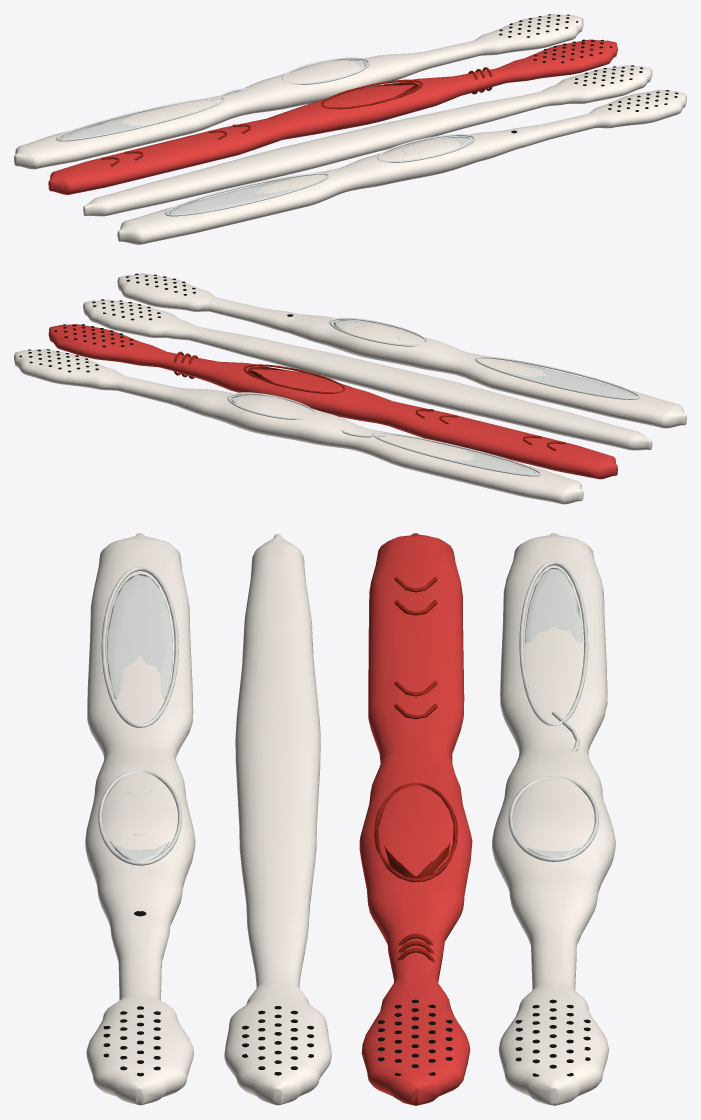
Rendered from product-20-toothbrush-collection.glb.
The picture shows the model from 3 angles, top to bottom: view 1: azimuth 30°, elevation 25°; view 2: azimuth 150°, elevation 25°; view 3: azimuth 270°, elevation 25°; orthographic projection. The views are drawn at different scales.
Parts seen in each view (by area): view 1: Variant 1 white sculpted toothbrush, Variant 2 chevron 1, Variant 1 flowing mould line, Variant 1 joined tuft-hole wells; view 2: Variant 1 white sculpted toothbrush, Variant 2 chevron 1, Variant 1 flowing mould line, Variant 1 joined tuft-hole wells; view 3: Variant 1 white sculpted toothbrush, Variant 2 chevron 1, Variant 1 flowing mould line, Variant 1 joined tuft-hole wells.
Boxes of the visible parts, x1,y1,x2,y2 form: Variant 1 white sculpted toothbrush: (14, 14, 686, 244); Variant 2 chevron 1: (48, 39, 617, 194); Variant 1 flowing mould line: (56, 57, 474, 216); Variant 1 joined tuft-hole wells: (499, 14, 678, 133); Variant 1 white sculpted toothbrush: (14, 273, 686, 504); Variant 2 chevron 1: (48, 324, 617, 479); Variant 1 flowing mould line: (53, 296, 639, 498); Variant 1 joined tuft-hole wells: (19, 273, 293, 372); Variant 1 white sculpted toothbrush: (85, 533, 615, 1105); Variant 2 chevron 1: (359, 533, 472, 1105); Variant 1 flowing mould line: (98, 561, 615, 1072); Variant 1 joined tuft-hole wells: (103, 911, 590, 1076).
Size of the model in its own units: 0.19 by 0.00873 by 0.077.
Materials: 4 (4 with a texture image).
